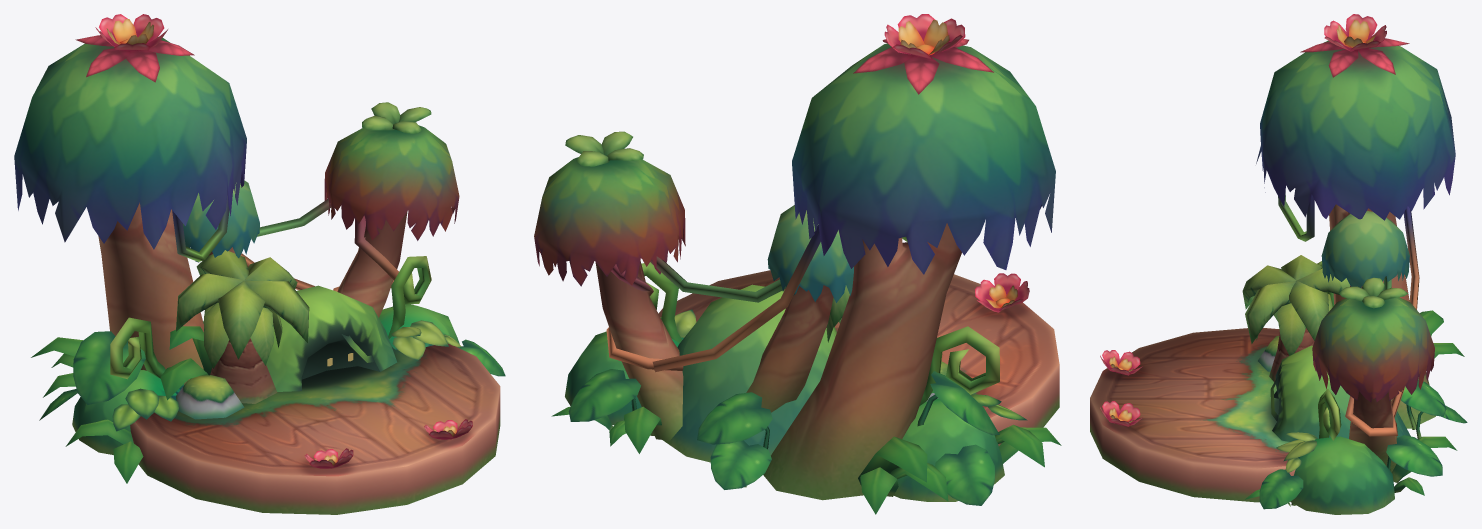
The model's file is jungle_stage.fbx.
3 renders of one model, left to right at view 1: azimuth 30°, elevation 25°; view 2: azimuth 150°, elevation 25°; view 3: azimuth 270°, elevation 25°, orthographic. The views are drawn at different scales.
Parts seen in each view (by area): view 1: jungle_stage; view 2: jungle_stage; view 3: jungle_stage.
Part boxes in pixels (x1,y1,x2,y2): jungle_stage: (14,14,505,514); jungle_stage: (534,14,1061,514); jungle_stage: (1090,14,1467,514).
Bounding box in the file's own units: 516 × 476 × 449.
Materials: 2 (2 with a texture image).
